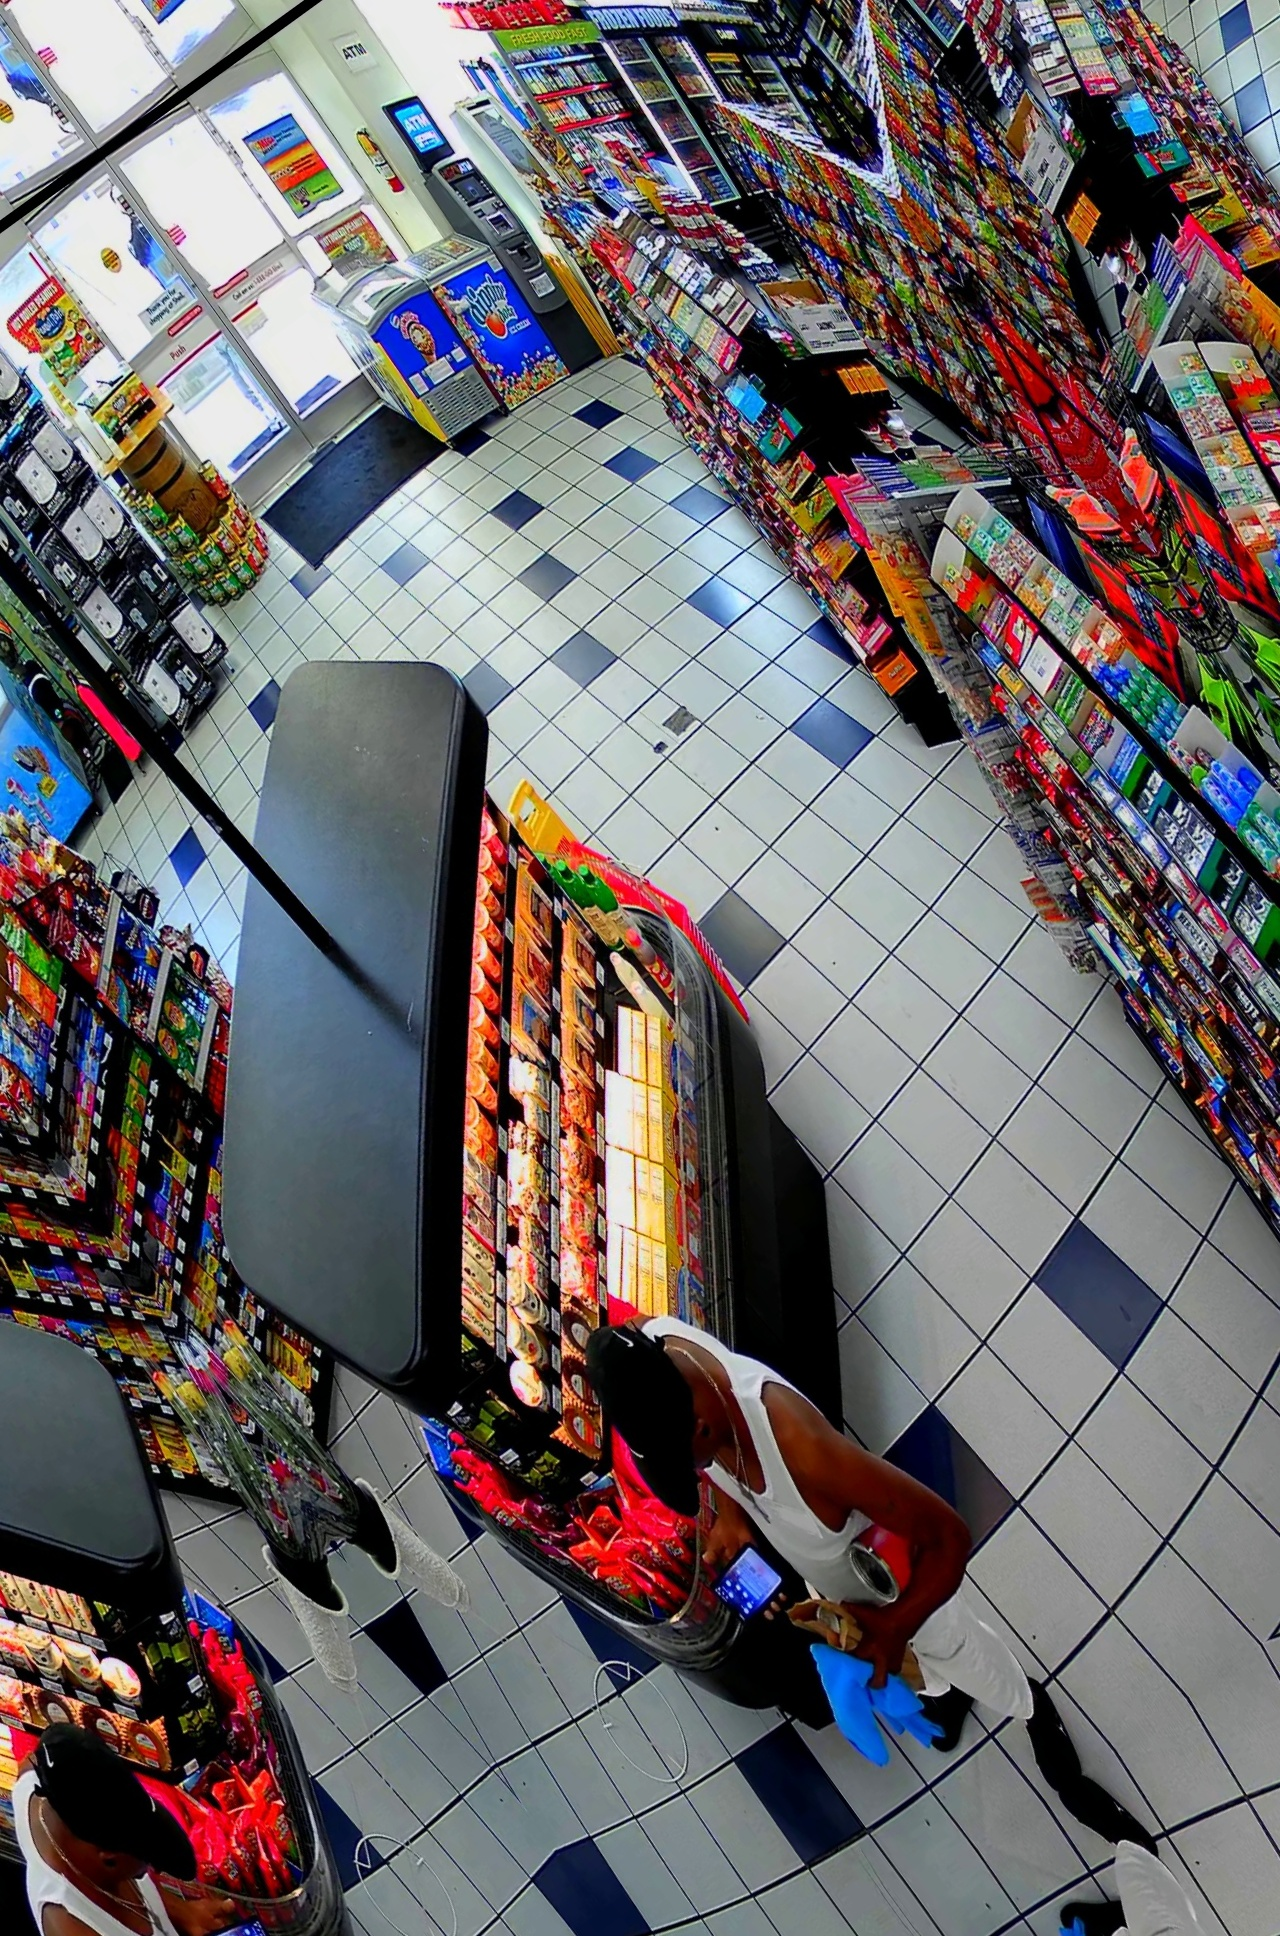phone: (701, 1535, 794, 1630)
